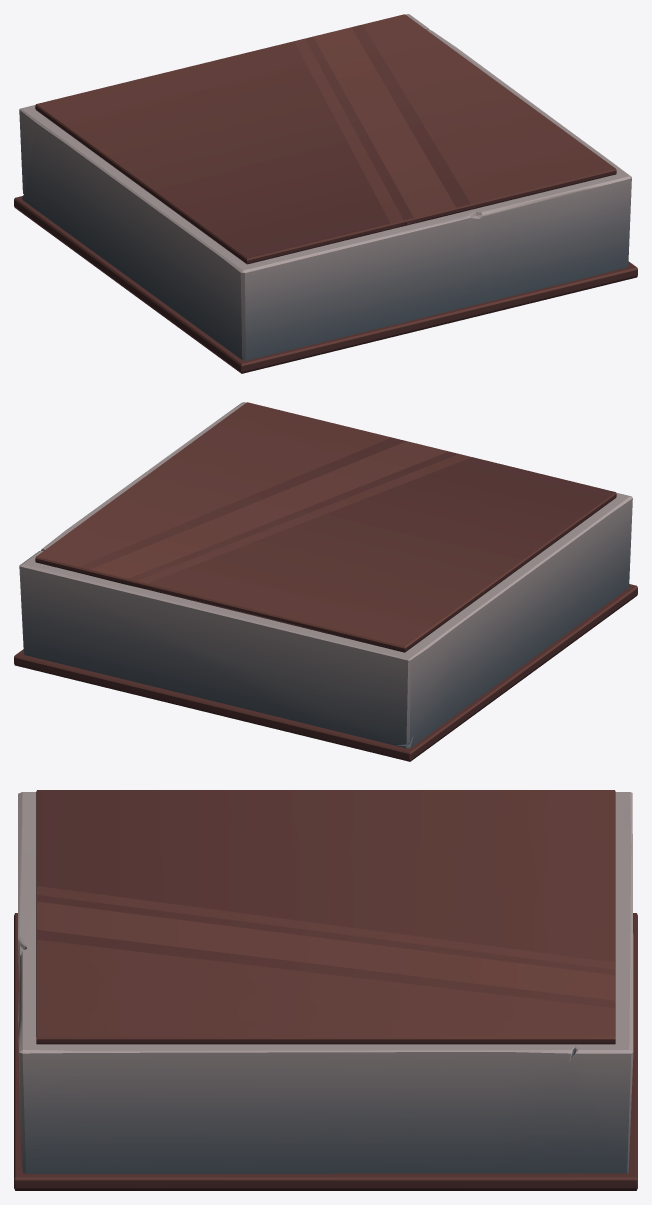
File: DisplayCase_High_4x4_Classic_A.fbx
3 renders of one model, top to bottom at view 1: azimuth 30°, elevation 25°; view 2: azimuth 150°, elevation 25°; view 3: azimuth 270°, elevation 25°, orthographic. The views are drawn at different scales.
Visible parts, largest first — view 1: DisplayCase_High_4x4_Classic_A; view 2: DisplayCase_High_4x4_Classic_A; view 3: DisplayCase_High_4x4_Classic_A.
Part boxes in pixels (box(x1,y1,x2,y2)): DisplayCase_High_4x4_Classic_A: box(14, 14, 637, 373); DisplayCase_High_4x4_Classic_A: box(14, 402, 637, 761); DisplayCase_High_4x4_Classic_A: box(14, 790, 637, 1190).
Size of the model in its own units: 3.91 by 1 by 3.89.
